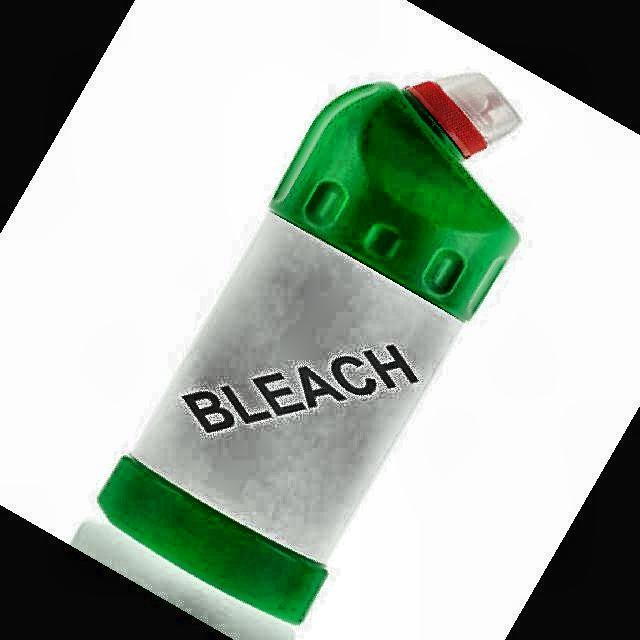plastic: (99, 74, 520, 625)
